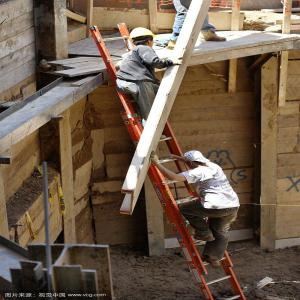none: (183, 150, 206, 170)
yellow: (128, 27, 159, 51)
